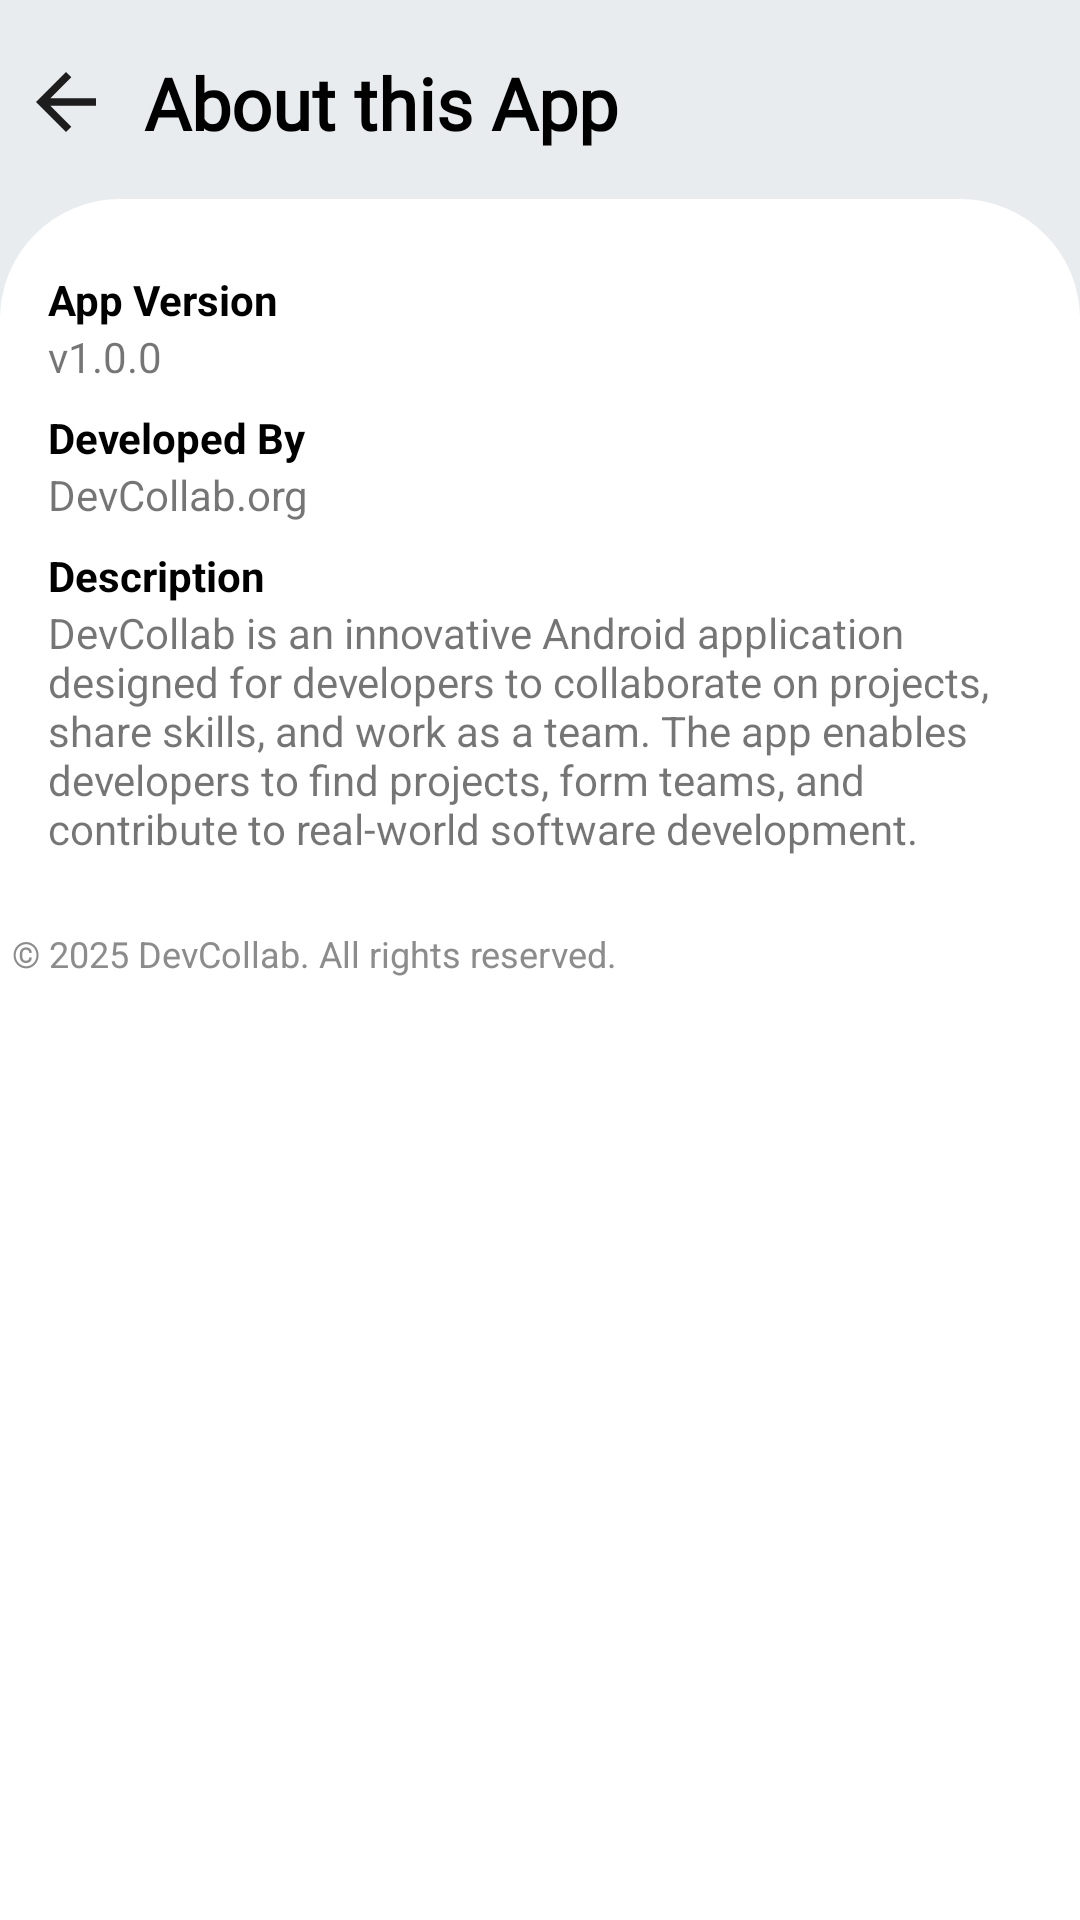

Named icons in this screenshot (1080w x 1920h) and their centers, (x,y):
back: (66,102)
